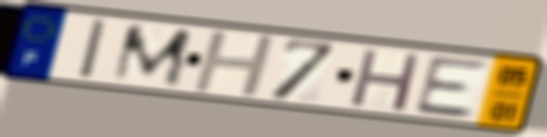7: (270, 37, 340, 104)
E: (410, 55, 493, 120)
H: (189, 30, 280, 99), (346, 46, 426, 114)
I: (77, 16, 111, 82)
M: (107, 23, 196, 89)
